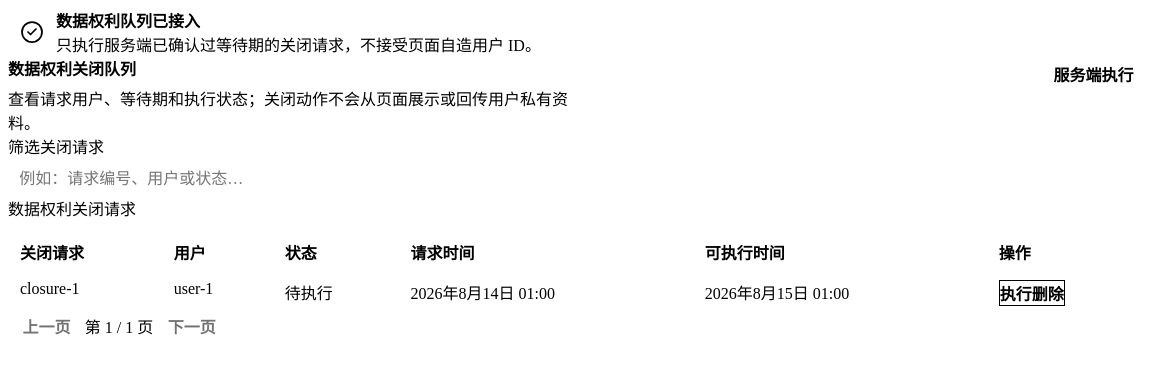
AdminDataRightsSurface › shows pending closures and executes one through the real API
Check: the text "closure-1" is shown, box [8,272,162,314]
Check: the text "待执行" is shown, box [273,272,398,314]
What coordinates should you click on to do the following:
click the button with aria-label "执行删除 closure-1"
I would click on:
 (1032, 293)
Its box is [999,280,1065,306].
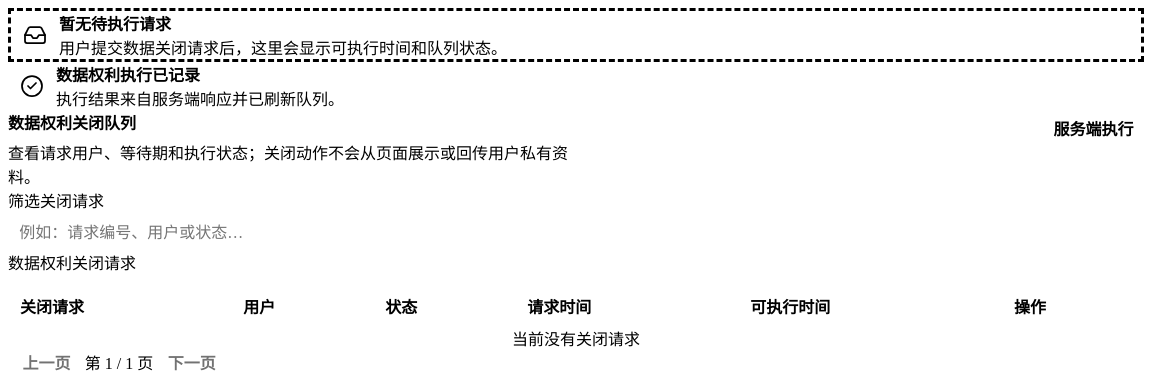
Check: the heading "数据权利执行已记录" is shown, box [56,67,200,84]
